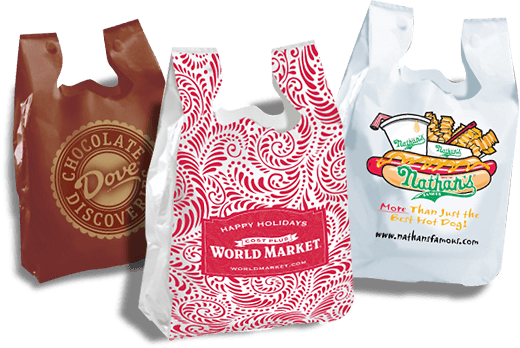Nonrec_Plastic: (145, 34, 358, 334), (335, 2, 520, 305), (5, 21, 178, 307)
